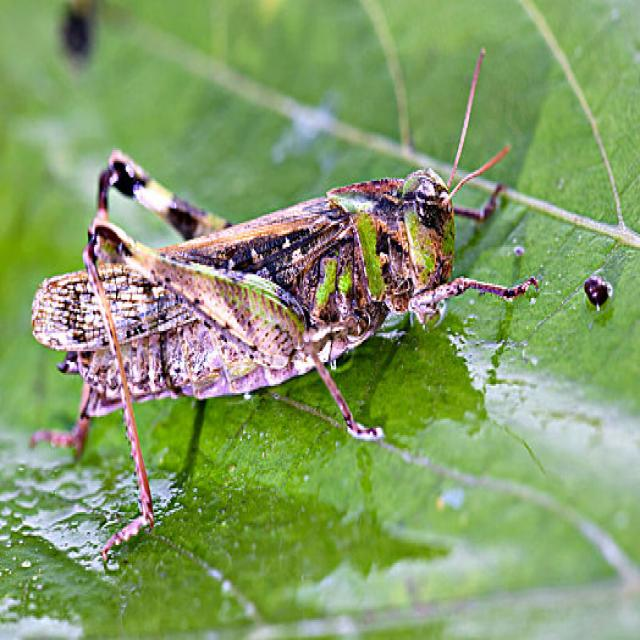ZhaMeng: (31, 115, 505, 485)
